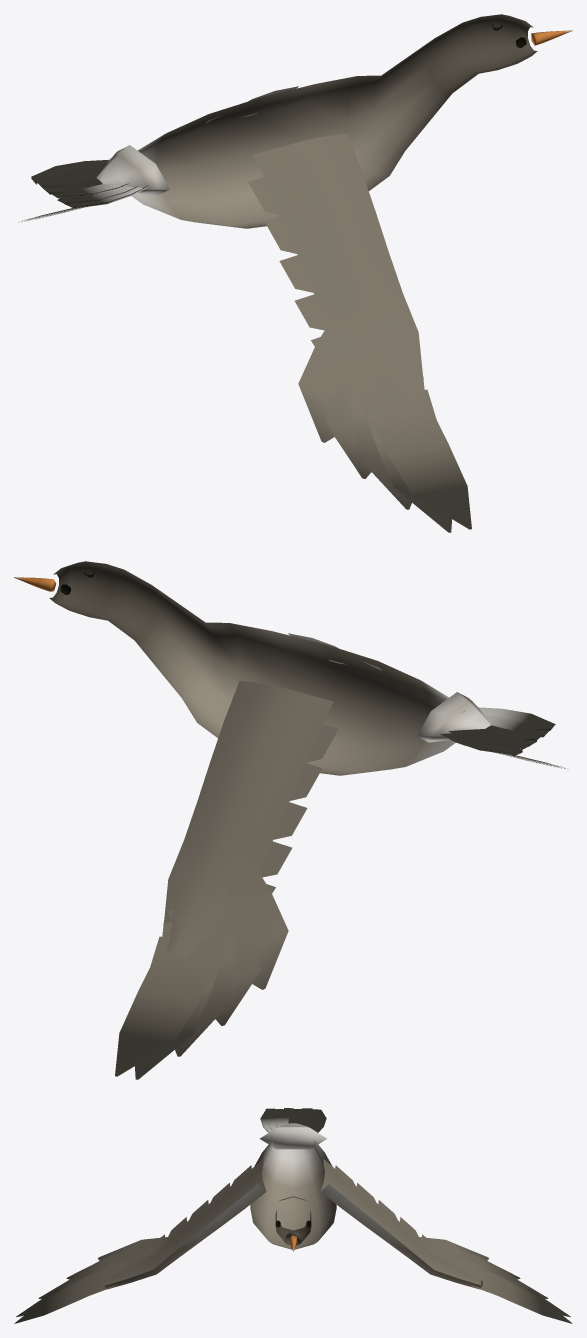
The model's file is SM_Bird_goose_flap2_LOD1.glb.
3 views of the same model, one above another, from view 1: azimuth 30°, elevation 25°; view 2: azimuth 150°, elevation 25°; view 3: azimuth 270°, elevation 25° (orthographic). The views are drawn at different scales.
Visible parts, largest first — view 1: SM_Bird_goose_flap2_LOD1; view 2: SM_Bird_goose_flap2_LOD1; view 3: SM_Bird_goose_flap2_LOD1.
Part boxes in pixels (x1,y1,x2,y2): SM_Bird_goose_flap2_LOD1: (18,14,572,532); SM_Bird_goose_flap2_LOD1: (14,561,568,1079); SM_Bird_goose_flap2_LOD1: (14,1108,572,1323).
Bounding box in the file's own units: 0.8762 × 0.4763 × 1.25.
